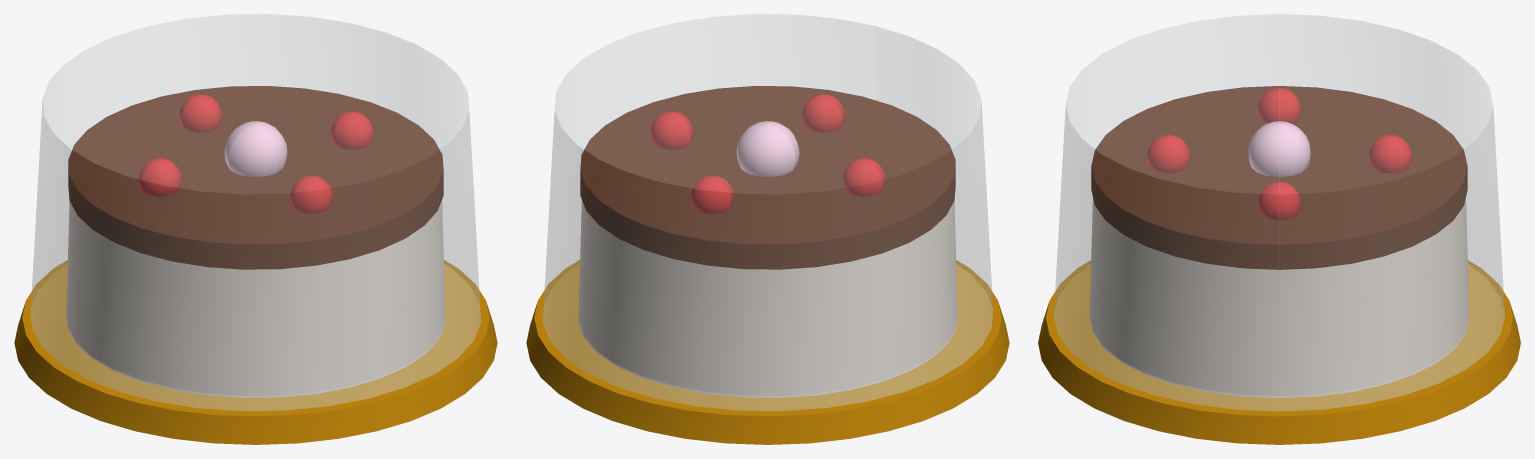
The model's file is cake-dome.glb.
3 views of the same model, side by side, from view 1: azimuth 30°, elevation 25°; view 2: azimuth 150°, elevation 25°; view 3: azimuth 270°, elevation 25° (orthographic).
Parts seen in each view (by area): view 1: Clear_Dome, Cake_Sponge, Chocolate_Ganache_Top, Cake_Board, Center_Rose, Berry_03, Berry_04, Berry_01, Berry_02; view 2: Clear_Dome, Cake_Sponge, Chocolate_Ganache_Top, Cake_Board, Center_Rose, Berry_04, Berry_03, Berry_01, Berry_02; view 3: Clear_Dome, Cake_Sponge, Chocolate_Ganache_Top, Cake_Board, Center_Rose, Berry_01, Berry_03, Berry_04, Berry_02.
Part boxes in pixels (<box>): Clear_Dome: <box>30,14,481,411</box>; Cake_Sponge: <box>66,200,445,397</box>; Chocolate_Ganache_Top: <box>68,86,443,269</box>; Cake_Board: <box>14,260,497,444</box>; Center_Rose: <box>224,121,287,176</box>; Berry_03: <box>289,175,333,213</box>; Berry_04: <box>178,94,222,132</box>; Berry_01: <box>330,111,373,149</box>; Berry_02: <box>138,158,181,196</box>; Clear_Dome: <box>542,14,993,411</box>; Cake_Sponge: <box>578,200,957,397</box>; Chocolate_Ganache_Top: <box>580,86,955,269</box>; Cake_Board: <box>526,260,1009,444</box>; Center_Rose: <box>736,121,799,176</box>; Berry_04: <box>690,175,734,213</box>; Berry_03: <box>801,94,845,132</box>; Berry_01: <box>650,111,693,149</box>; Berry_02: <box>842,158,885,196</box>; Clear_Dome: <box>1054,14,1504,411</box>; Cake_Sponge: <box>1089,198,1469,397</box>; Chocolate_Ganache_Top: <box>1091,86,1467,269</box>; Cake_Board: <box>1038,260,1520,444</box>; Center_Rose: <box>1248,121,1310,177</box>; Berry_01: <box>1257,181,1301,220</box>; Berry_03: <box>1147,134,1190,173</box>; Berry_04: <box>1368,134,1411,173</box>; Berry_02: <box>1257,88,1301,123</box>.
Bounding box in the file's own units: 0.244 × 0.133 × 0.244.
